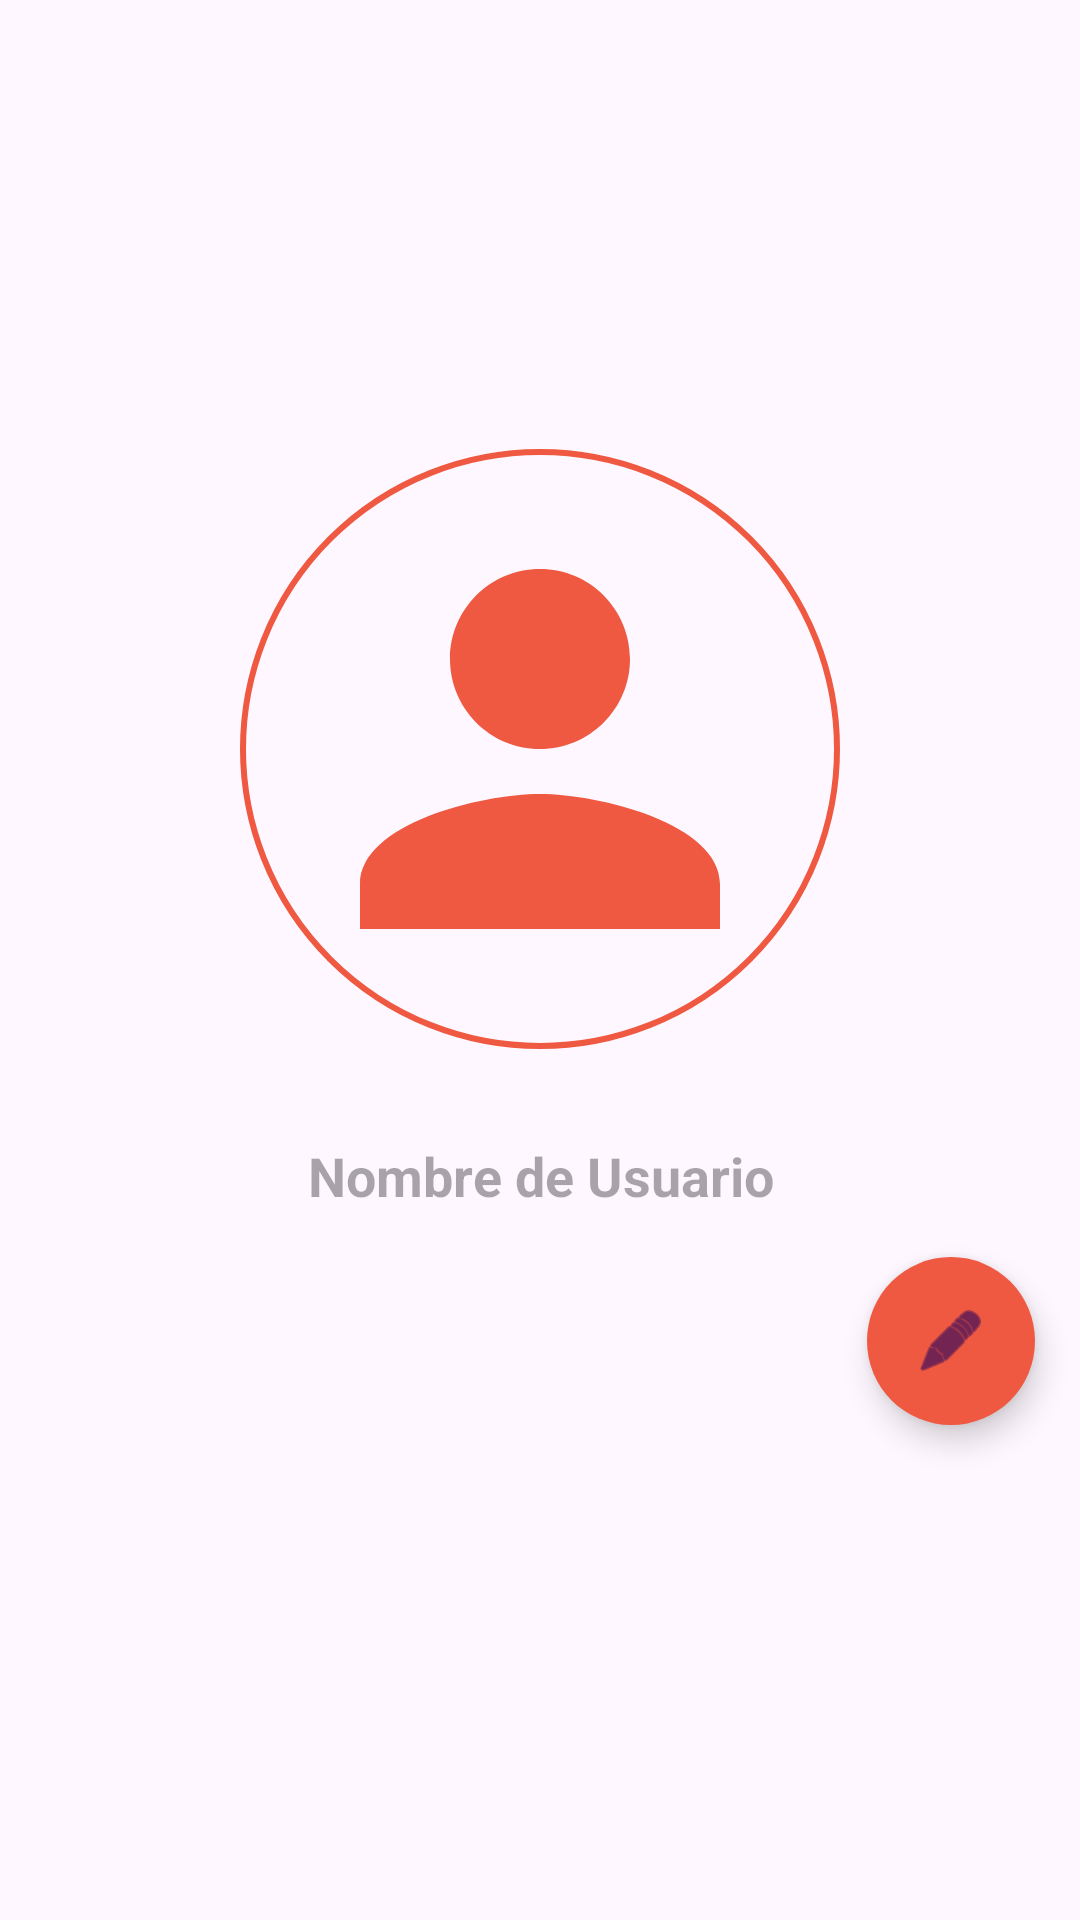

Screen size 1080x1920. Icon name, then its box in pixels as box(x1, y1, x2, y2):
edit: box(867, 1257, 1035, 1425)
